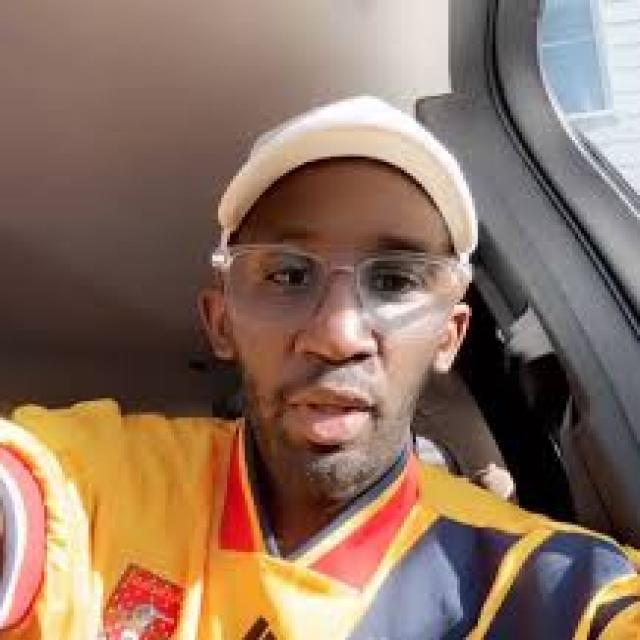specticles: (196, 214, 505, 348)
